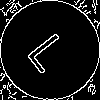L: (25, 25, 79, 75)
